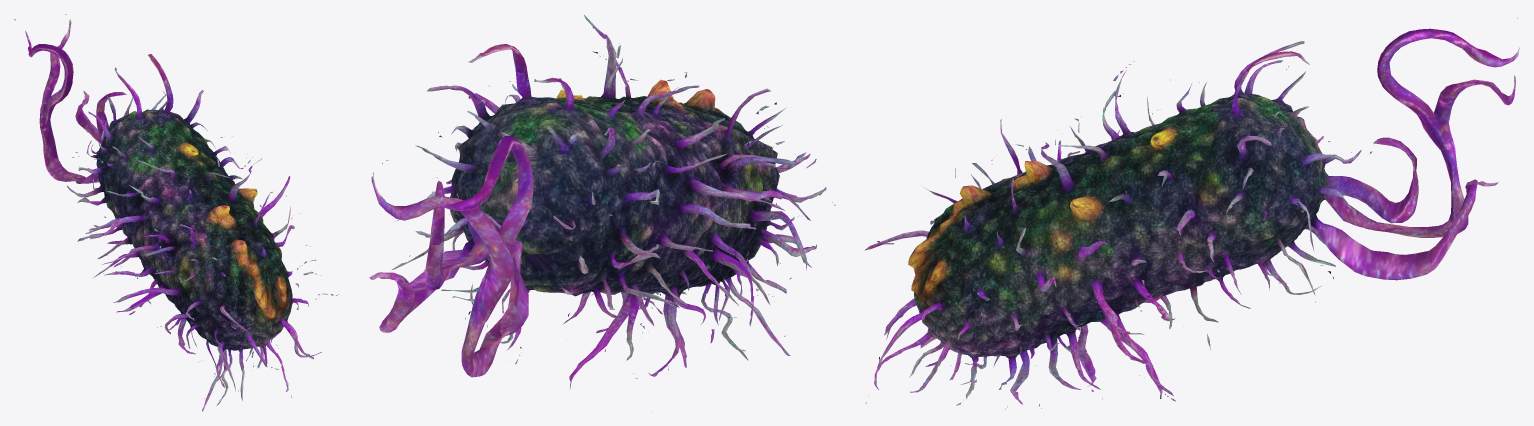
The model's file is flagellate.glb.
3 views of the same model, side by side, from view 1: azimuth 30°, elevation 25°; view 2: azimuth 150°, elevation 25°; view 3: azimuth 270°, elevation 25° (orthographic). The views are drawn at different scales.
Parts seen in each view (by area): view 1: attack-membrane; view 2: attack-membrane; view 3: attack-membrane.
Boxes of the visible parts, bbox=[...] form: attack-membrane: bbox=[14, 14, 338, 411]; attack-membrane: bbox=[369, 15, 835, 411]; attack-membrane: bbox=[865, 18, 1519, 409].
Size of the model in its own units: 1.02 by 1.28 by 2.
Materials: 1 (1 with a texture image).
